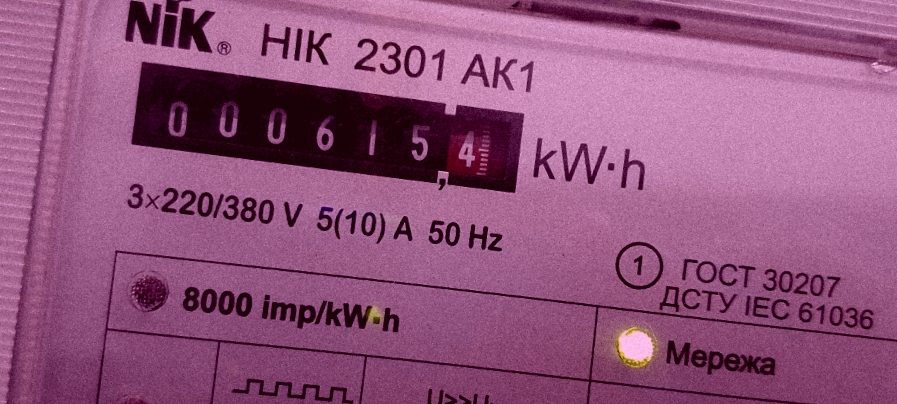0: (261, 102, 292, 148), (162, 95, 193, 139), (214, 96, 243, 139)
1: (363, 115, 382, 158)
4: (454, 126, 479, 169)
5: (405, 119, 434, 164)
6: (310, 109, 340, 153)
screen: (114, 41, 541, 216)
